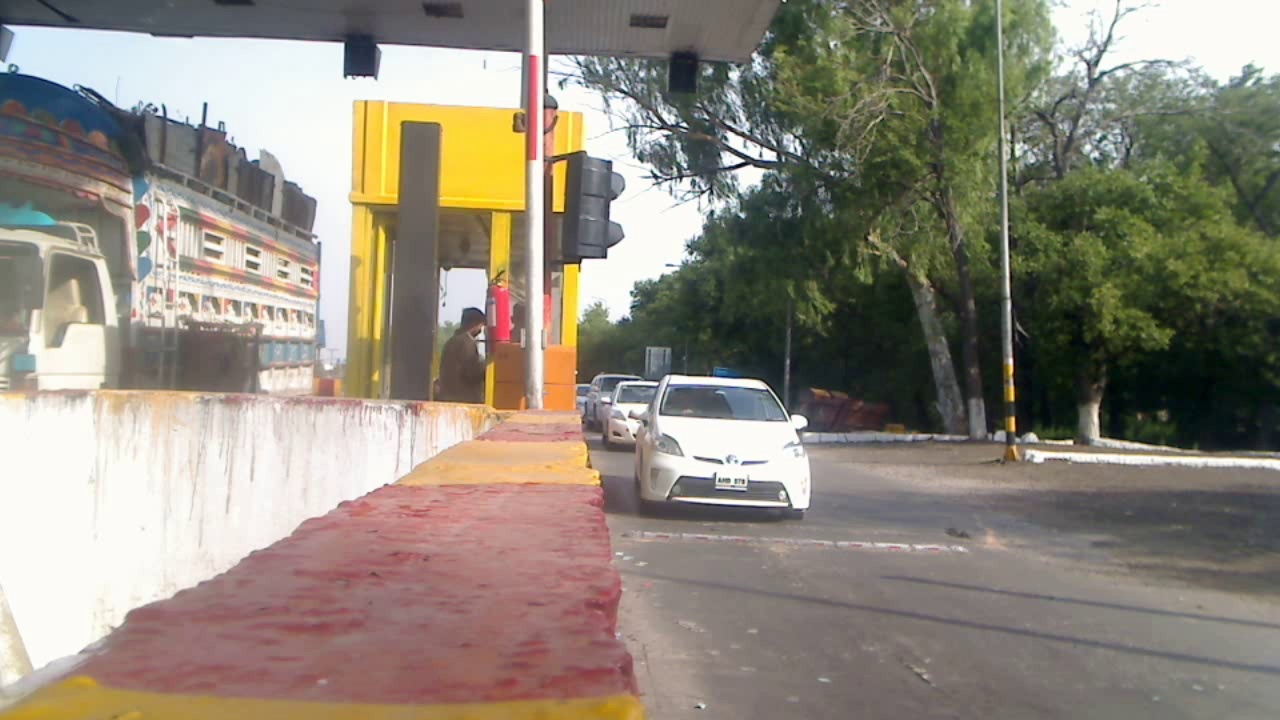Number Plate (Car): (718, 474, 748, 490)
